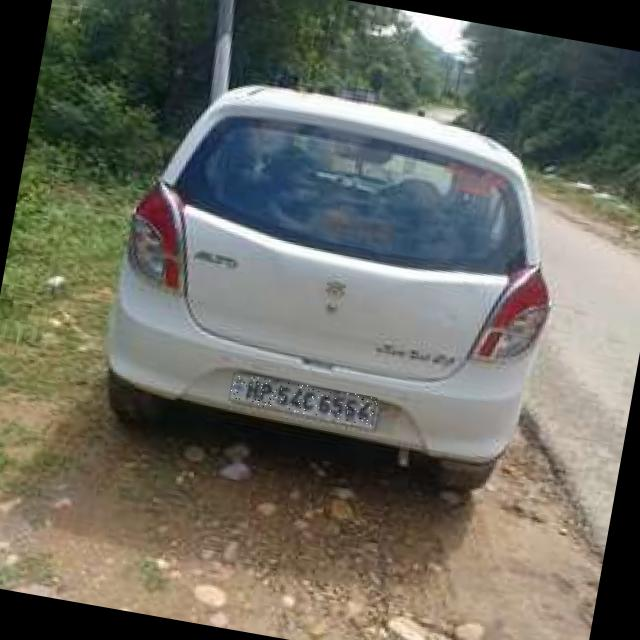Plate: (229, 373, 380, 427)
